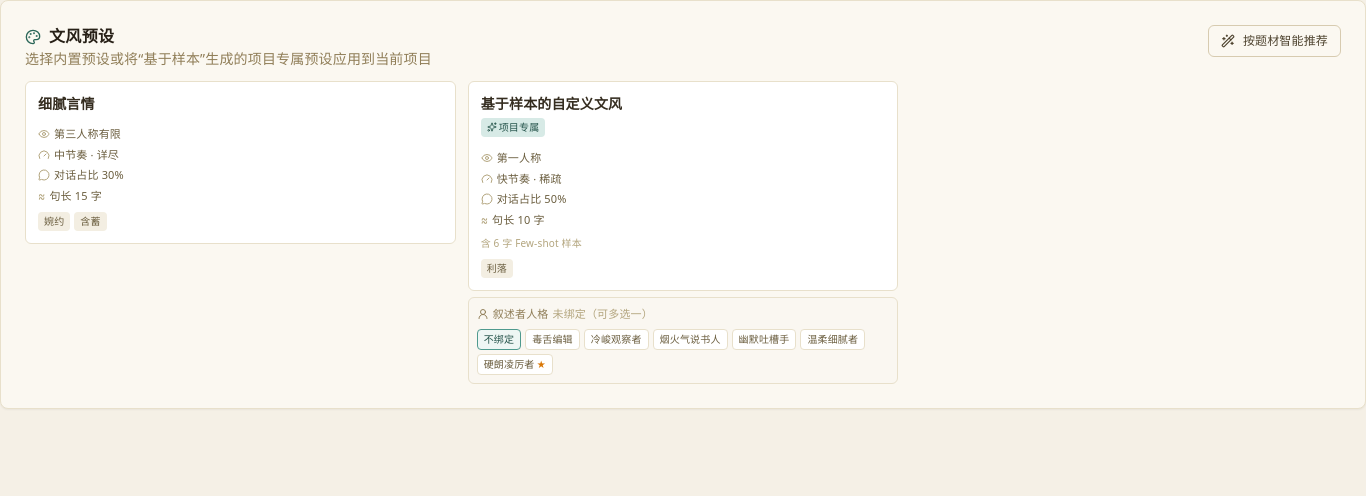
Test: StyleSelector › 推荐结果可取消，取消后不切换
Expected: the text "细腻言情" is shown, [38, 94, 95, 114]
Click the button "按题材智能推荐". click: (1274, 41)
box: [1208, 25, 1341, 57]
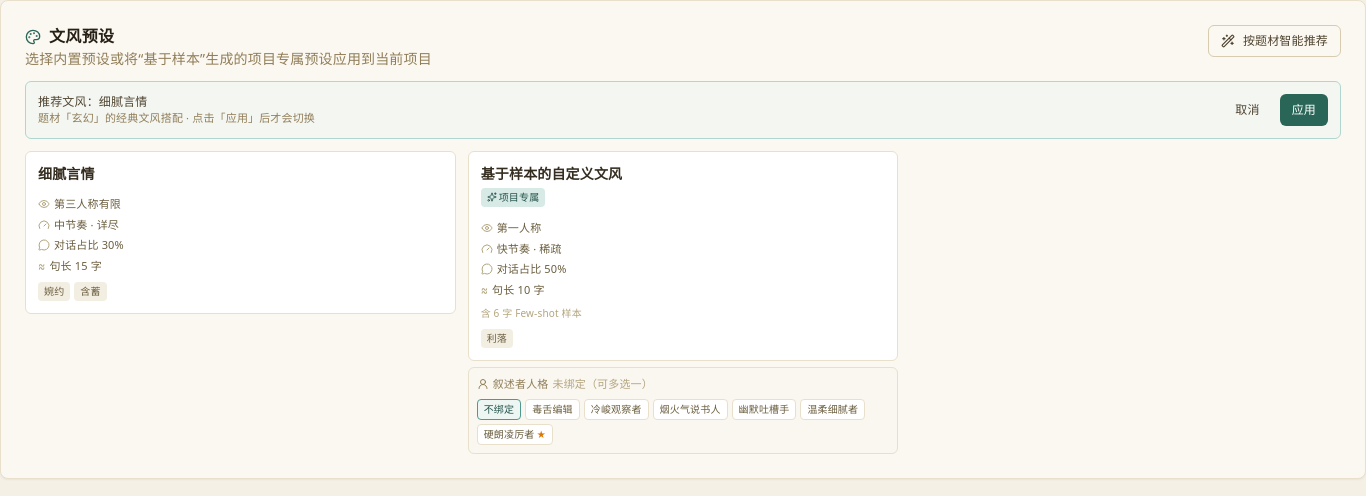
Now the text "推荐文风：细腻言情" is shown, box [38, 93, 148, 110]
Click the button "取消". click: (1247, 110)
box: [1223, 94, 1272, 126]
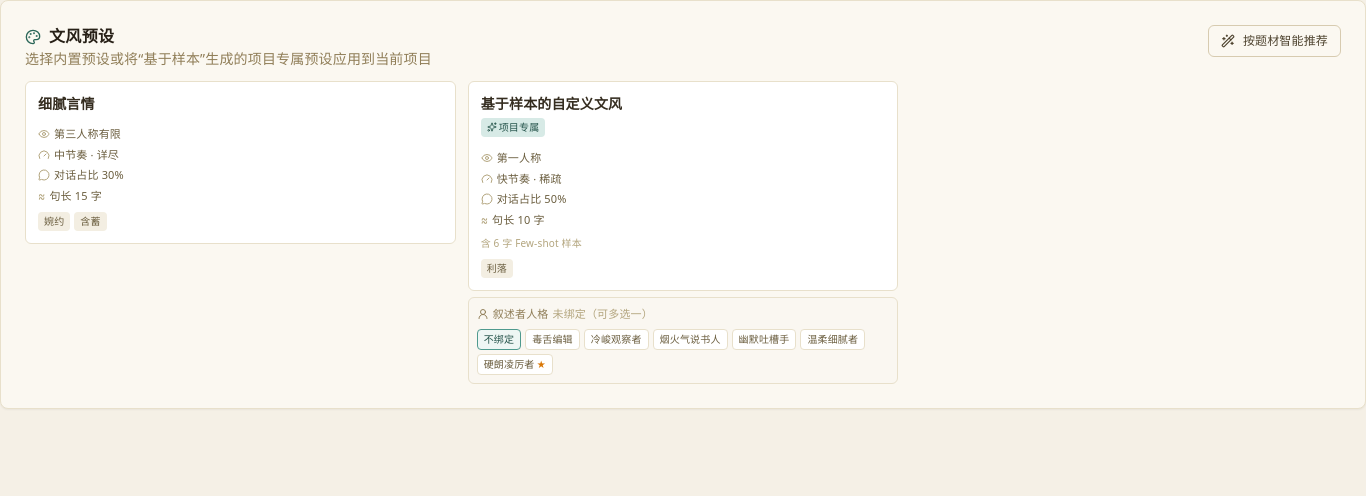
Now the text "推荐文风：细腻言情" is gone
